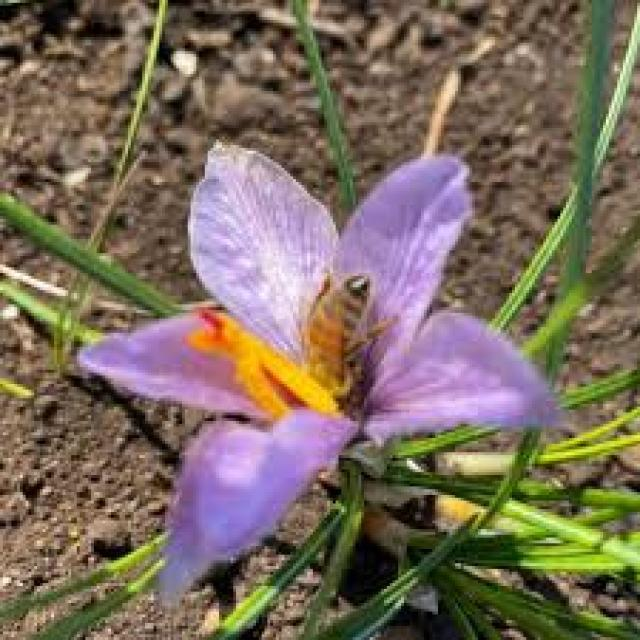Flower: (87, 140, 551, 610)
